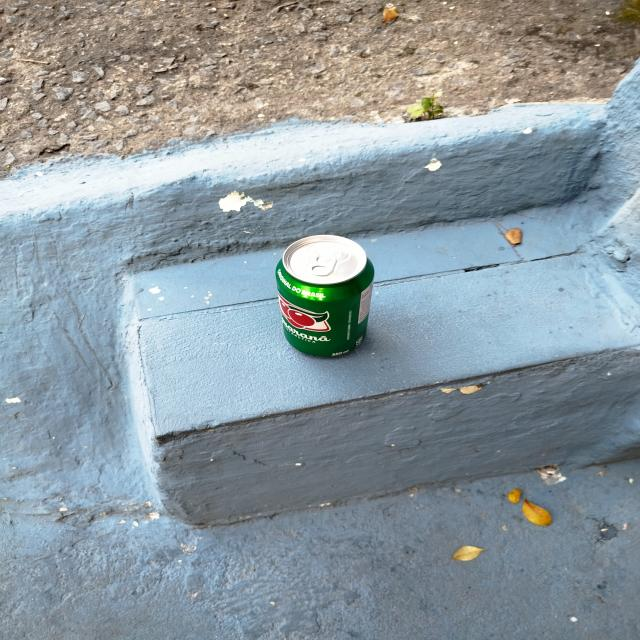Guarana: (273, 235, 372, 356)
